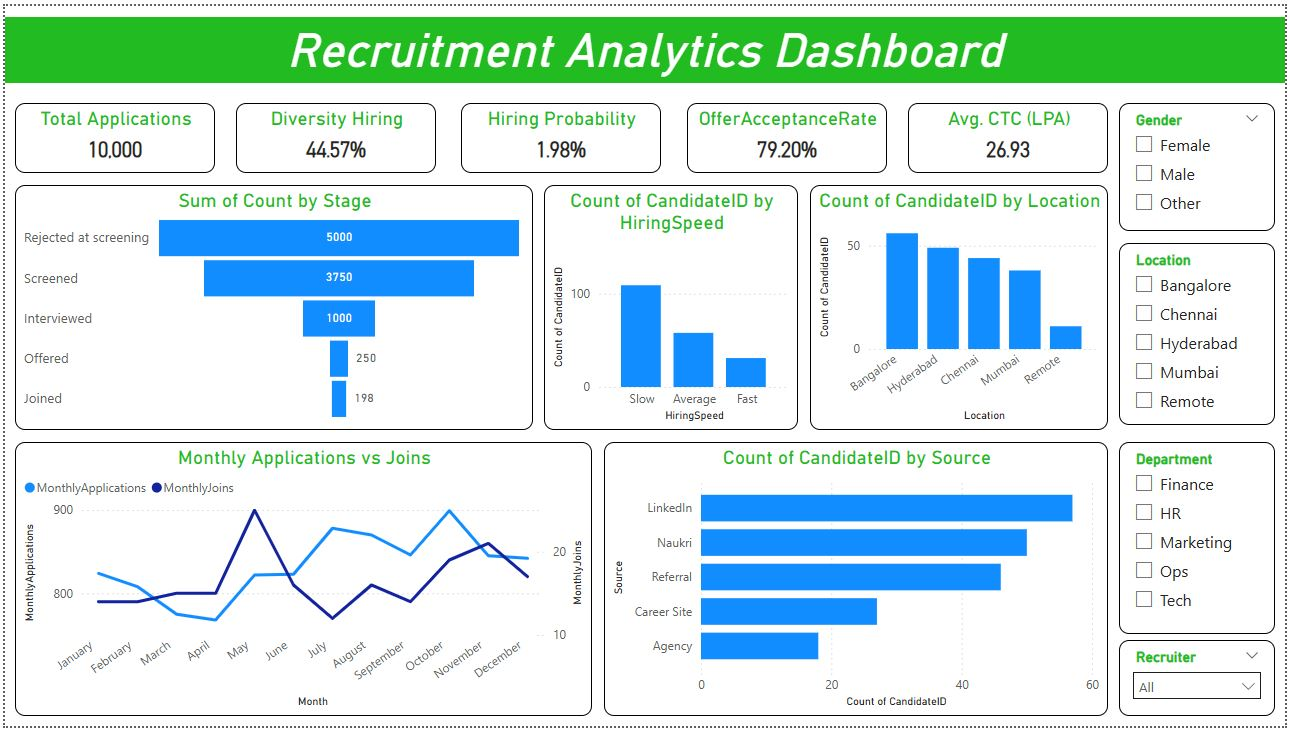

The page's visual inventory and layout, read from the dashboard file:
{"tool":"powerbi","page":{"name":"Main","canvas":[1280,720],"ordinal":0},"visuals":[{"type":"card","title":"Total Applications","fields":{"Values":["Count(Recruitment_Data.CandidateID)"]},"box":[10,97,200,70],"z":0},{"type":"card","title":"OfferAcceptanceRate","fields":{"Values":["Recruitment_Data.OfferAcceptanceRate"]},"box":[682,97,200,70],"z":1000},{"type":"card","title":"Hiring Probability","fields":{"Values":["Recruitment_Data.HiringProbability"]},"box":[456,97,200,70],"z":2000},{"type":"card","title":"Diversity Hiring","fields":{"Values":["Recruitment_Data.DiversityPct"]},"box":[231,97,200,70],"z":3000},{"type":"funnel","fields":{"Y":["Sum(FunnelChart.Count)"],"Category":["FunnelChart.Stage"]},"box":[10,179,518,245],"z":4000},{"type":"clusteredBarChart","fields":{"Category":["Recruitment_Data.Source"],"Y":["CountNonNull(Recruitment_Data.CandidateID)"]},"box":[599,436,504,274],"z":5000},{"type":"columnChart","fields":{"Y":["CountNonNull(Recruitment_Data.CandidateID)"],"Category":["Recruitment_Data.HiringSpeed"]},"box":[539,179,254,245],"z":6000},{"type":"lineChart","title":"Monthly Applications vs Joins","fields":{"Category":["Recruitment_Data.ApplicationDate.Variation.Date Hierarchy.Month"],"Y":["Recruitment_Data.MonthlyApplications"],"Y2":["Recruitment_Data.MonthlyJoins"]},"box":[10,436,577,274],"z":7000},{"type":"slicer","fields":{"Values":["Recruitment_Data.Department"]},"box":[1114,436,156,192],"z":8000},{"type":"slicer","fields":{"Values":["Recruitment_Data.Location"]},"box":[1114,237,156,182],"z":9000},{"type":"slicer","fields":{"Values":["Recruitment_Data.Gender"]},"box":[1114,97,156,128],"z":10000},{"type":"slicer","fields":{"Values":["Recruitment_Data.Recruiter"]},"box":[1114,634,156,76],"z":11000},{"type":"columnChart","fields":{"Y":["CountNonNull(Recruitment_Data.CandidateID)"],"Category":["Recruitment_Data.Location"]},"box":[805,179,298,245],"z":12000},{"type":"textbox","box":[0,11,1280,66],"z":13000},{"type":"card","title":"Avg. CTC (LPA)","fields":{"Values":["Avg(Recruitment_Data.OfferedCTC)"]},"box":[903,97,200,70],"z":13001}]}

Visuals, with their boxes in screenshot pixels (x1, y1, x2, y2), scaled from the page's 1280x720 canvas onto the 1290x732 screenshot:
"Total Applications" card: 10/99/212/170
"OfferAcceptanceRate" card: 687/99/889/170
"Hiring Probability" card: 460/99/661/170
"Diversity Hiring" card: 233/99/434/170
funnel - Sum(FunnelChart.Count) x FunnelChart.Stage: 10/182/532/431
clusteredBarChart - Recruitment_Data.Source x CountNonNull(Recruitment_Data.CandidateID): 604/443/1112/722
columnChart - CountNonNull(Recruitment_Data.CandidateID) x Recruitment_Data.HiringSpeed: 543/182/799/431
"Monthly Applications vs Joins" lineChart: 10/443/592/722
slicer - Recruitment_Data.Department: 1123/443/1280/638
slicer - Recruitment_Data.Location: 1123/241/1280/426
slicer - Recruitment_Data.Gender: 1123/99/1280/229
slicer - Recruitment_Data.Recruiter: 1123/645/1280/722
columnChart - CountNonNull(Recruitment_Data.CandidateID) x Recruitment_Data.Location: 811/182/1112/431
textbox: 0/11/1289/78
"Avg. CTC (LPA)" card: 910/99/1112/170
